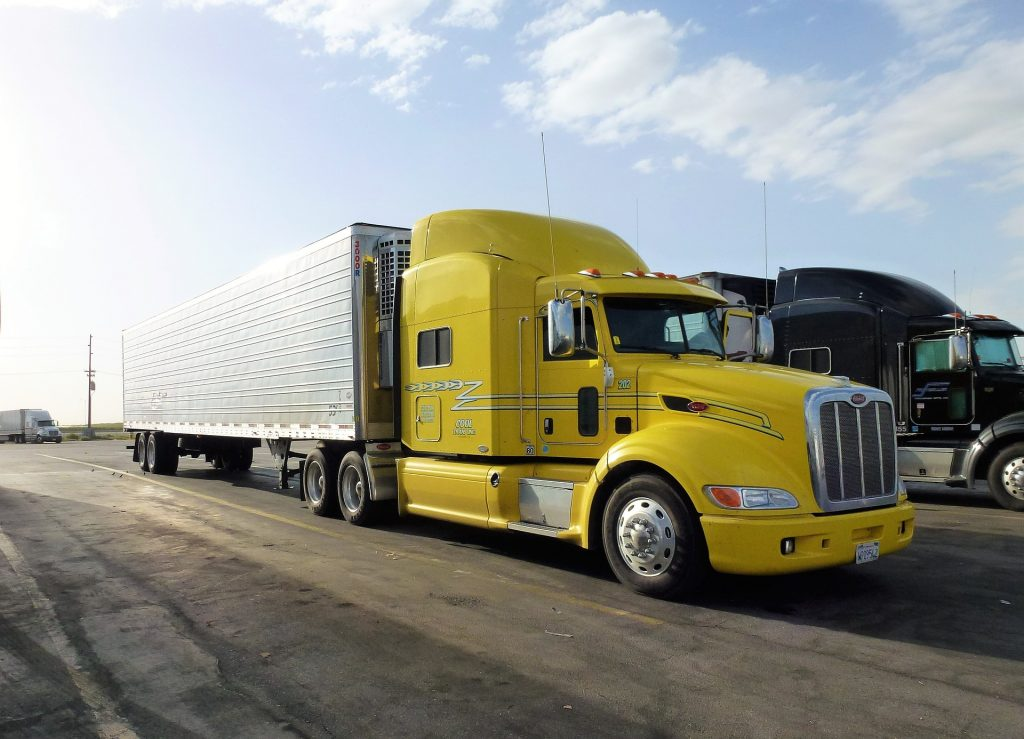Truck: (118, 213, 924, 597), (789, 270, 1024, 496)
